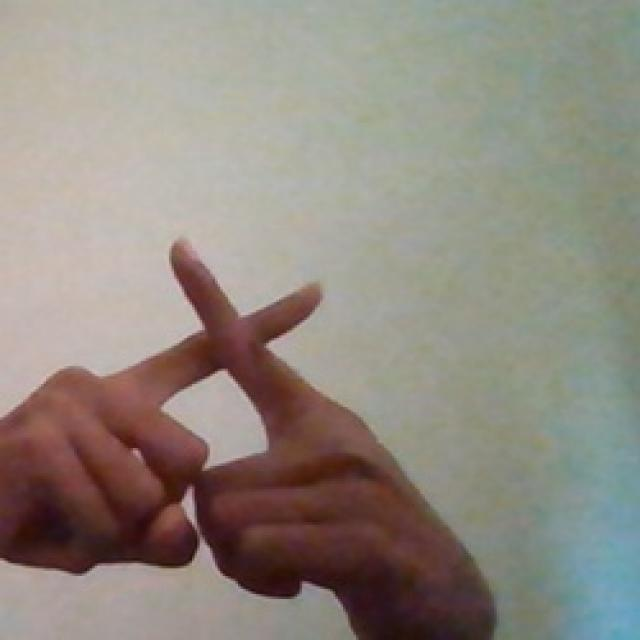Alphabet-X: (0, 219, 515, 640)
